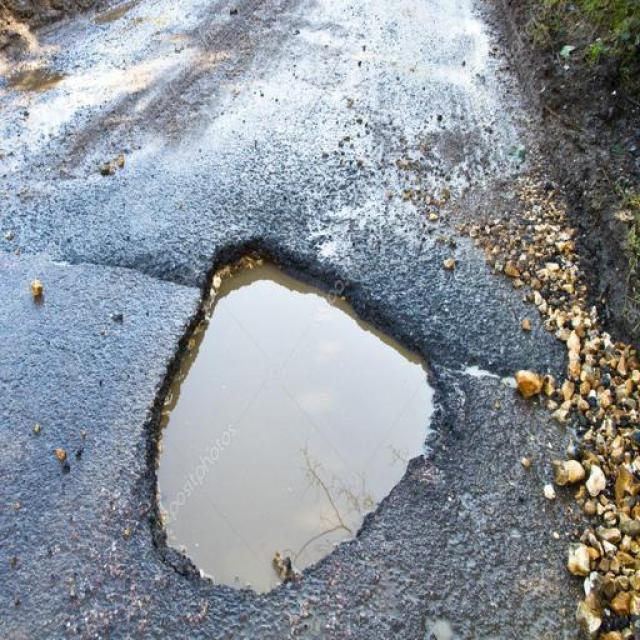puddle: (196, 298, 370, 568)
